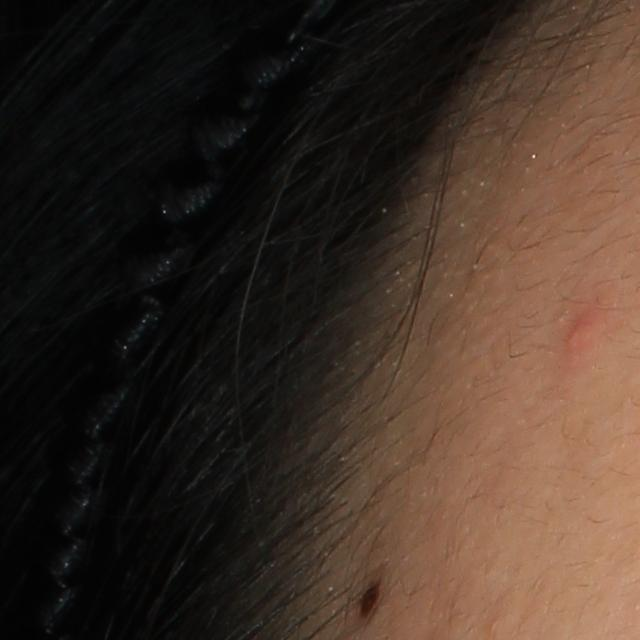nevus: (354, 579, 383, 625)
papule: (563, 288, 613, 368)
